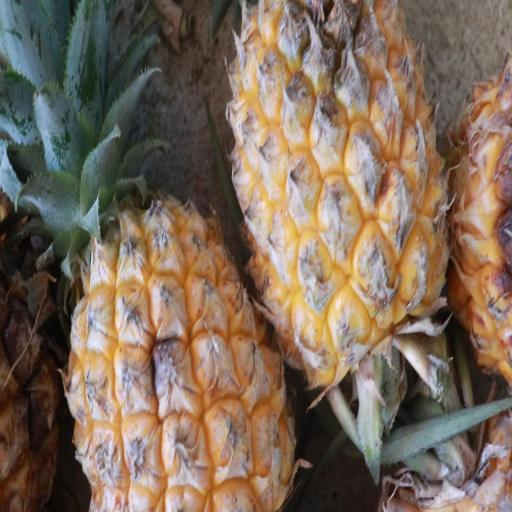Pineapple - v8 v1: (58, 0, 305, 512), (223, 0, 453, 380)
